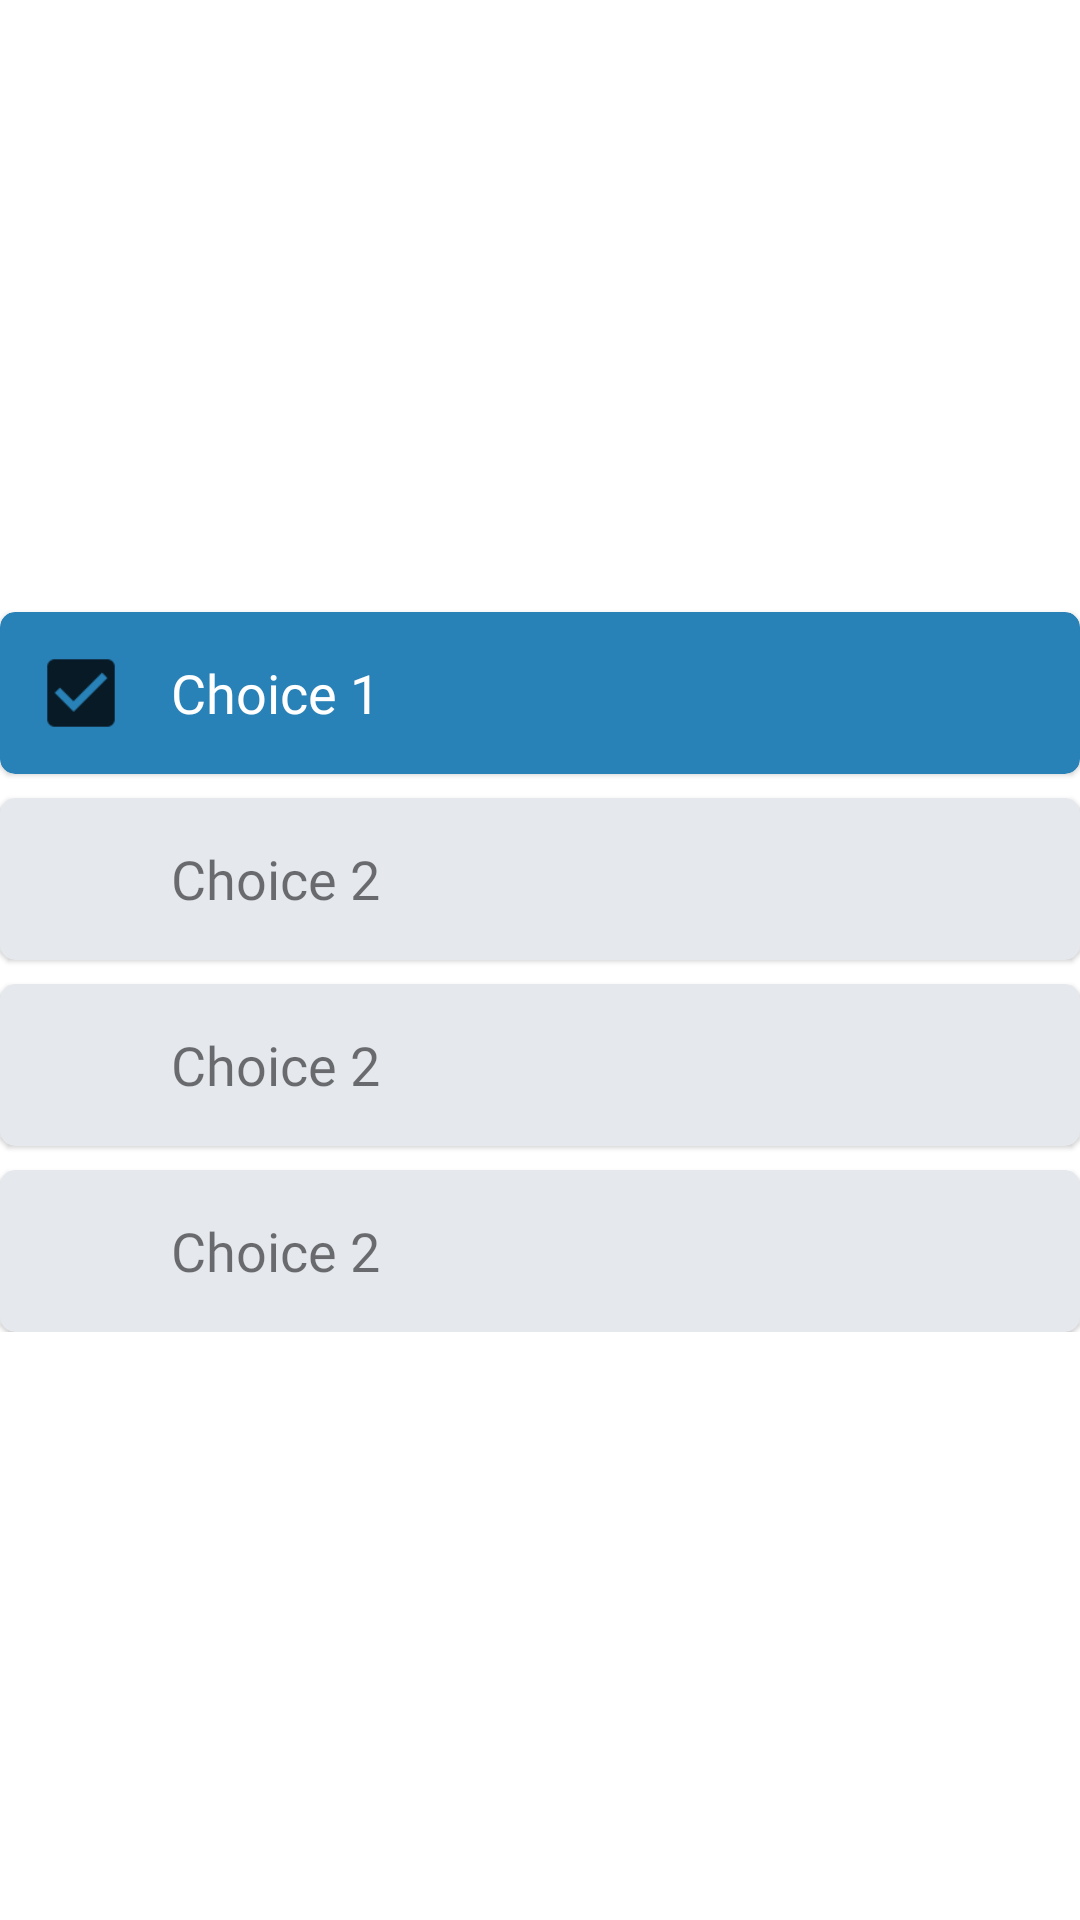

Locate icon controls on the screen. Image size 1080w x 1920h, boxes as (x1, y1, x2, y2).
checkedcheckbox: (47, 659, 115, 727)
